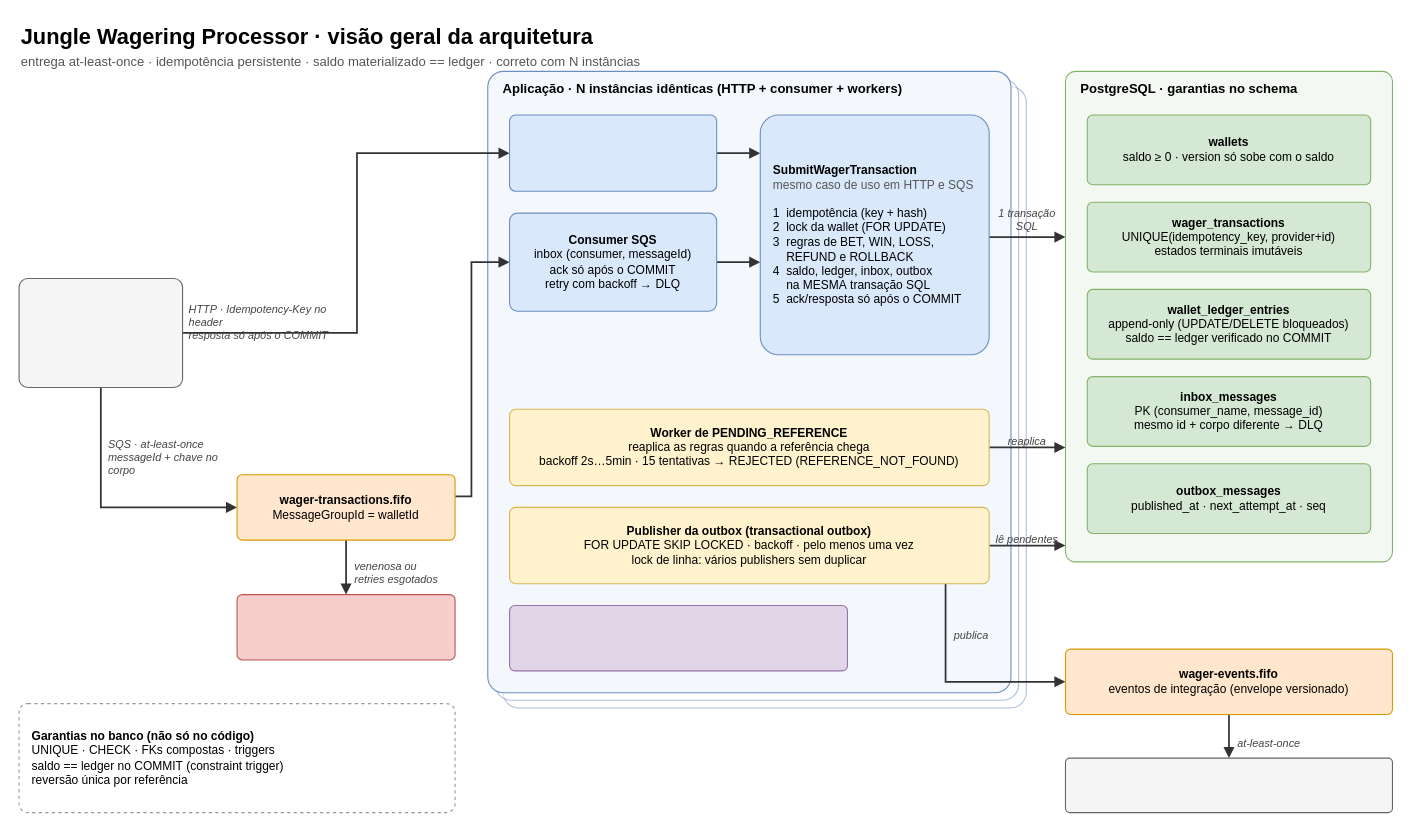
This 1412x832 diagram has some shape labels left out. Here are the shapes that lost their labels. From the top down, the centre of each, then its label:
(612,152): API HTTP NestJS + Fastify wallets · health · metrics
(100,332): Provedores de jogos BET · WIN · LOSS REFUND · ROLLBACK
(345,627): wager-transactions-dlq.fifo mensagens para investigar
(677,637): Observabilidade logs JSON · /metrics · /health/live · /ready
(1228,785): Consumidores dos eventos deduplicam por eventId
